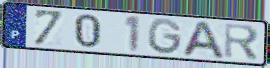0: (72, 13, 104, 49)
1: (122, 14, 142, 54)
7: (33, 8, 66, 47)
A: (179, 20, 227, 61)
G: (146, 17, 184, 56)
R: (223, 22, 262, 63)
